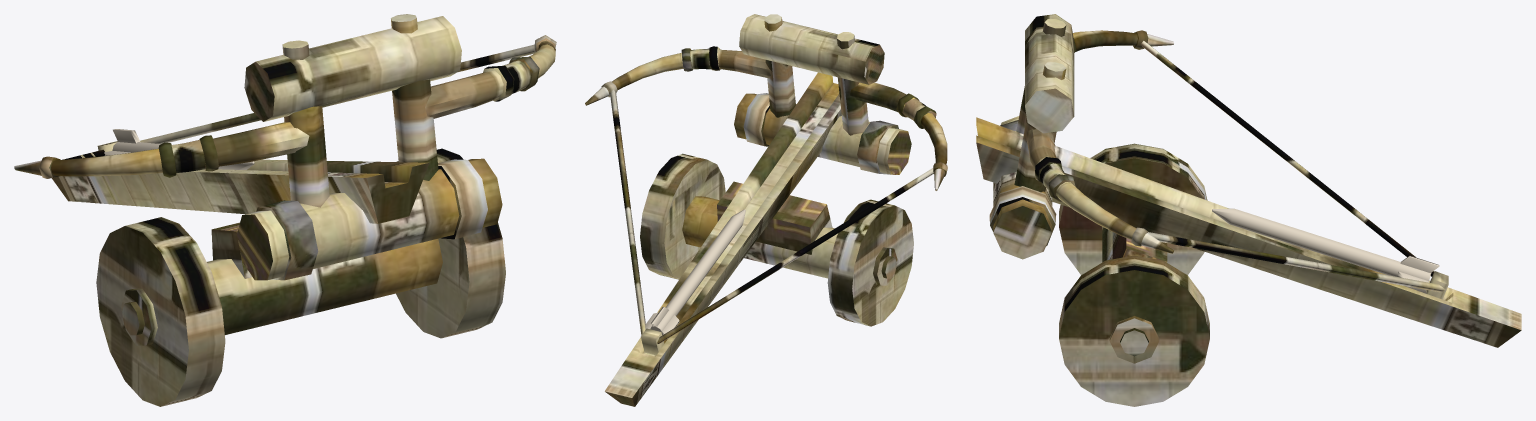
Rendered from 229-ballista.glb.
The picture shows the model from 3 angles, left to right: view 1: azimuth 30°, elevation 25°; view 2: azimuth 150°, elevation 25°; view 3: azimuth 270°, elevation 25°; orthographic projection. The views are drawn at different scales.
Size of the model in its own units: 3.37 by 2.25 by 3.7.
2 materials, 1 textured.
